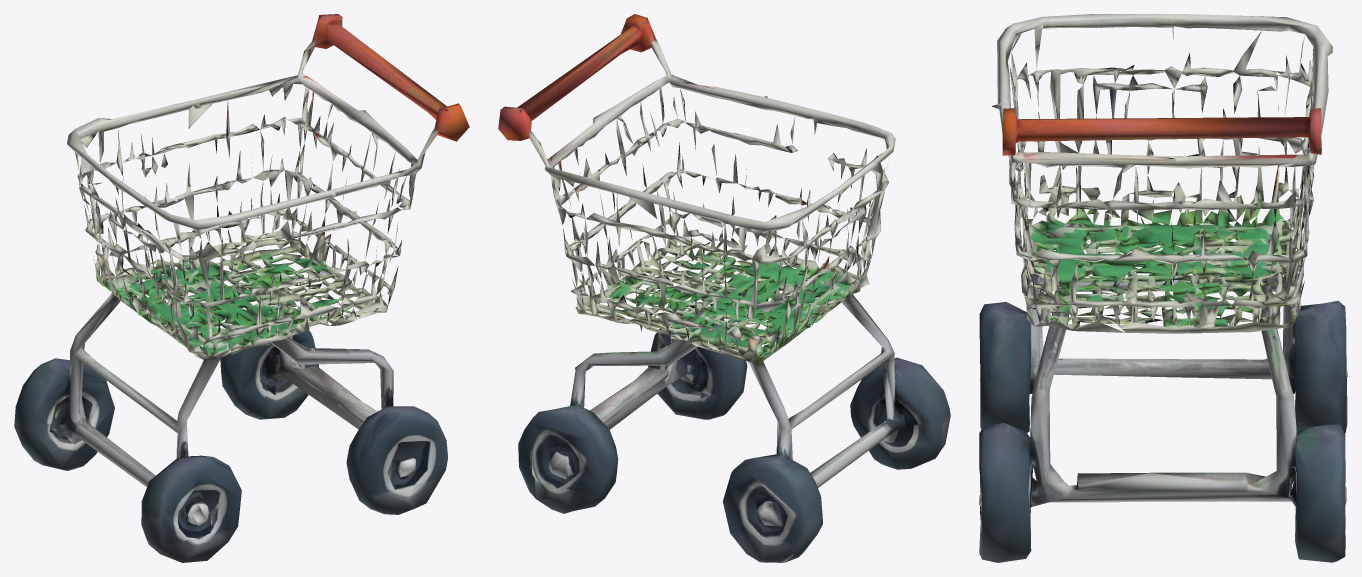
Rendered from cart.glb.
3 views of the same model, side by side, from view 1: azimuth 30°, elevation 25°; view 2: azimuth 150°, elevation 25°; view 3: azimuth 270°, elevation 25° (orthographic). The views are drawn at different scales.
Visible parts, largest first — view 1: Mesh_0; view 2: Mesh_0; view 3: Mesh_0.
Boxes of the visible parts, <box> form: Mesh_0: <box>14,14,469,562</box>; Mesh_0: <box>498,14,950,562</box>; Mesh_0: <box>979,14,1347,562</box>.
Size of the model in its own units: 1.73 by 2 by 1.39.
Materials: 1 (1 with a texture image).
